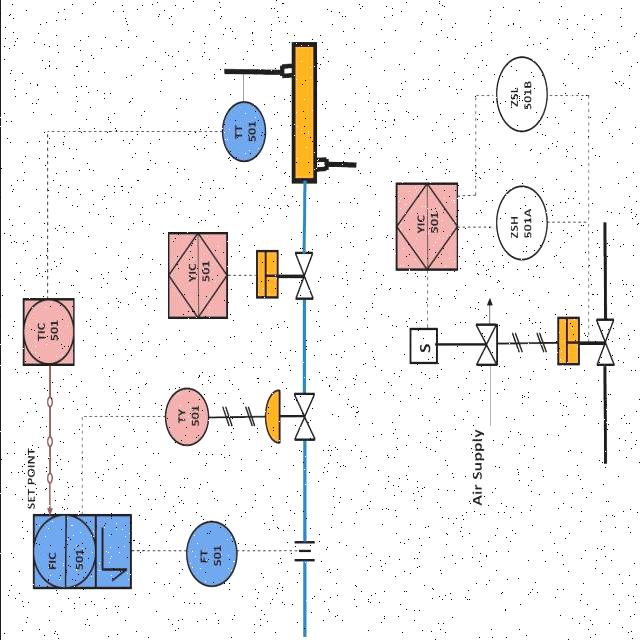3 Way Gate Valve: (474, 318, 502, 376)
Pneumatic-Diaphragm Gate Valve: (257, 380, 317, 461)
Rotary Piston-Pneumatic Gate Valve: (250, 230, 326, 316), (550, 297, 622, 379)
